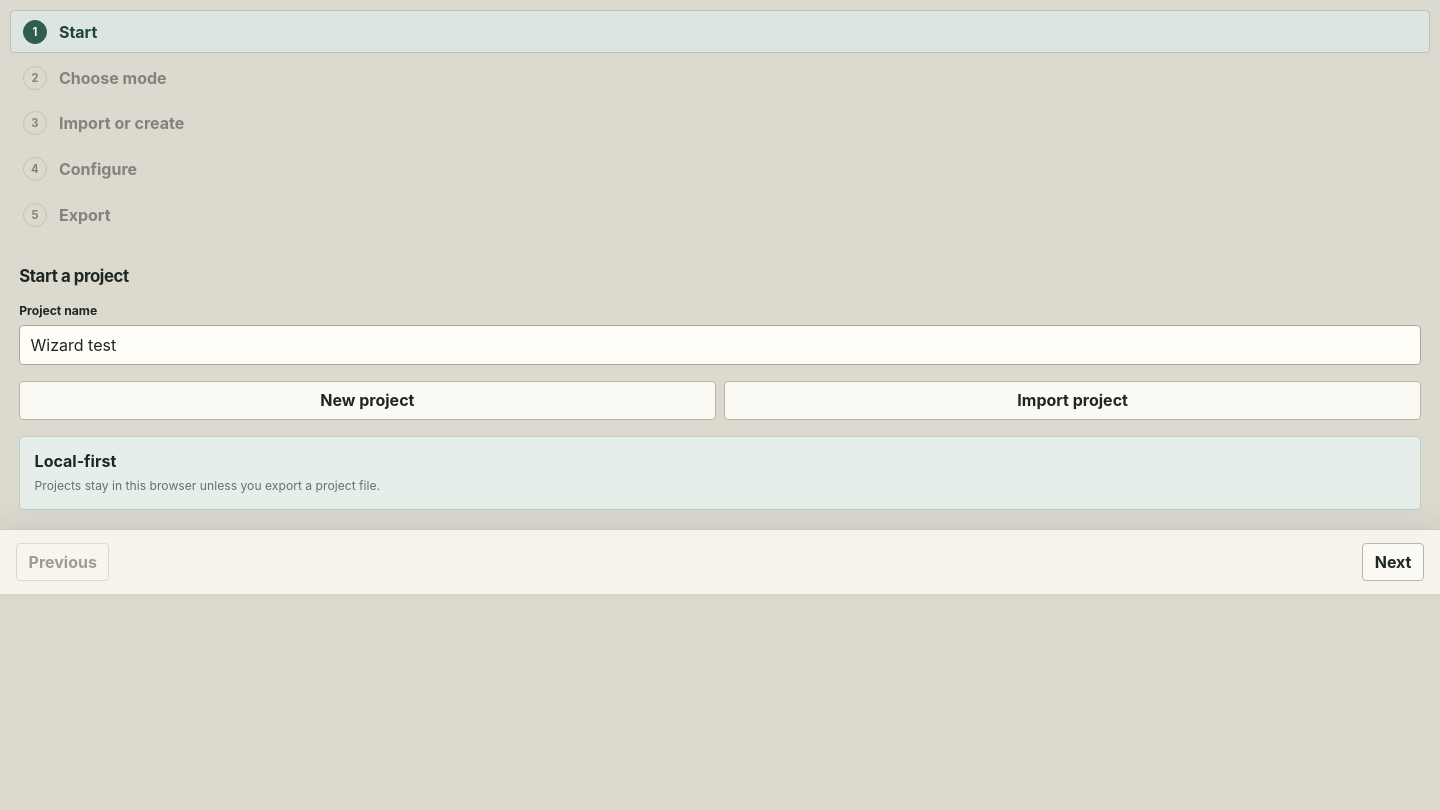
Scenario: wizard workflow › shows only the active step and unlocks completed navigation
The width and height of the screenshot is (1440, 810).
Check: the heading "Start a project" is shown, box [19, 266, 129, 286]
Check: the heading "Choose a fabrication mode" is not shown
Click the button "Next" at (1393, 562), box [1362, 543, 1424, 581]
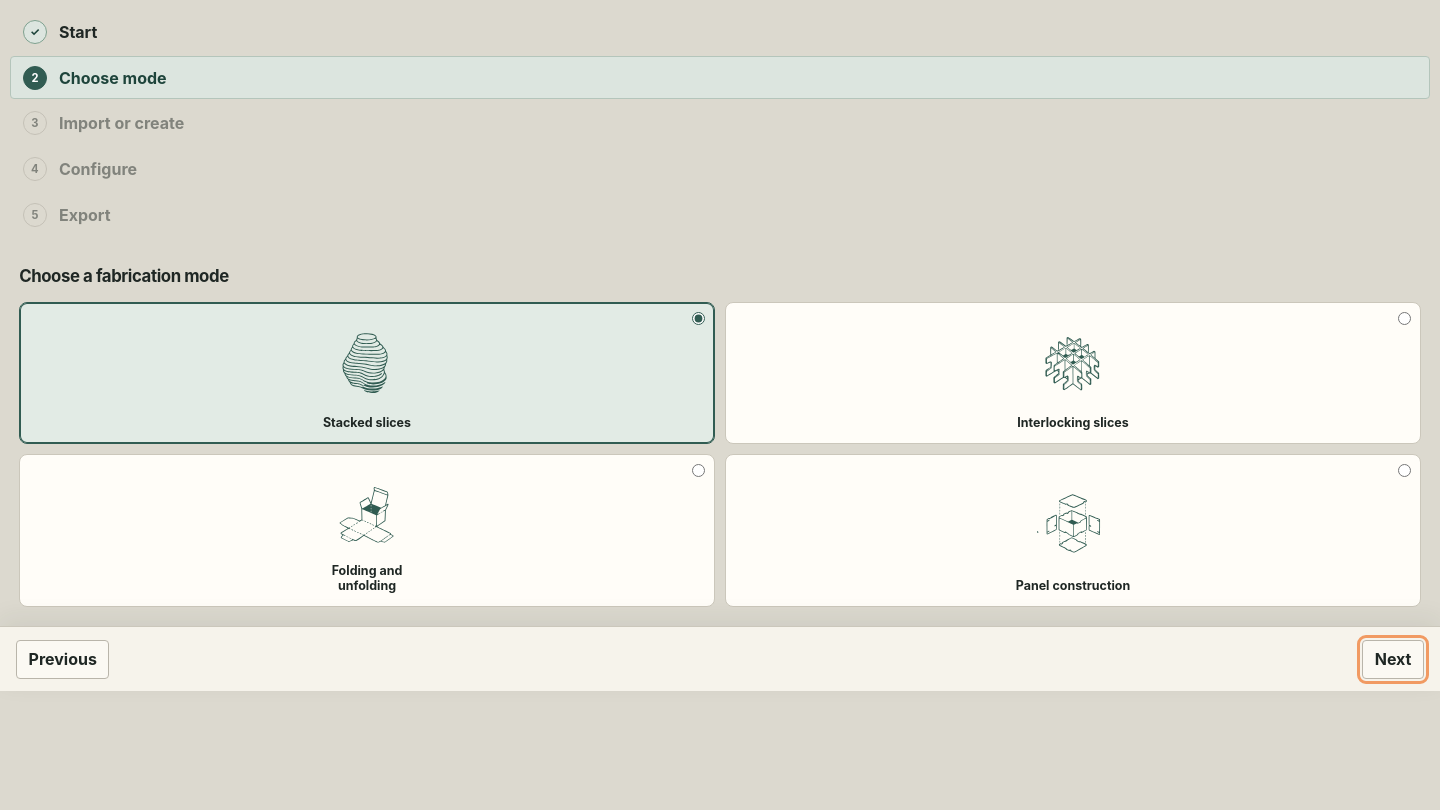
Check: the button "3 Import or create" is disabled, box [10, 102, 1430, 145]
Check: the heading "Choose a fabrication mode" is shown, box [19, 266, 229, 286]
Click the button "✓ Start" at (78, 32), box [10, 10, 1430, 53]
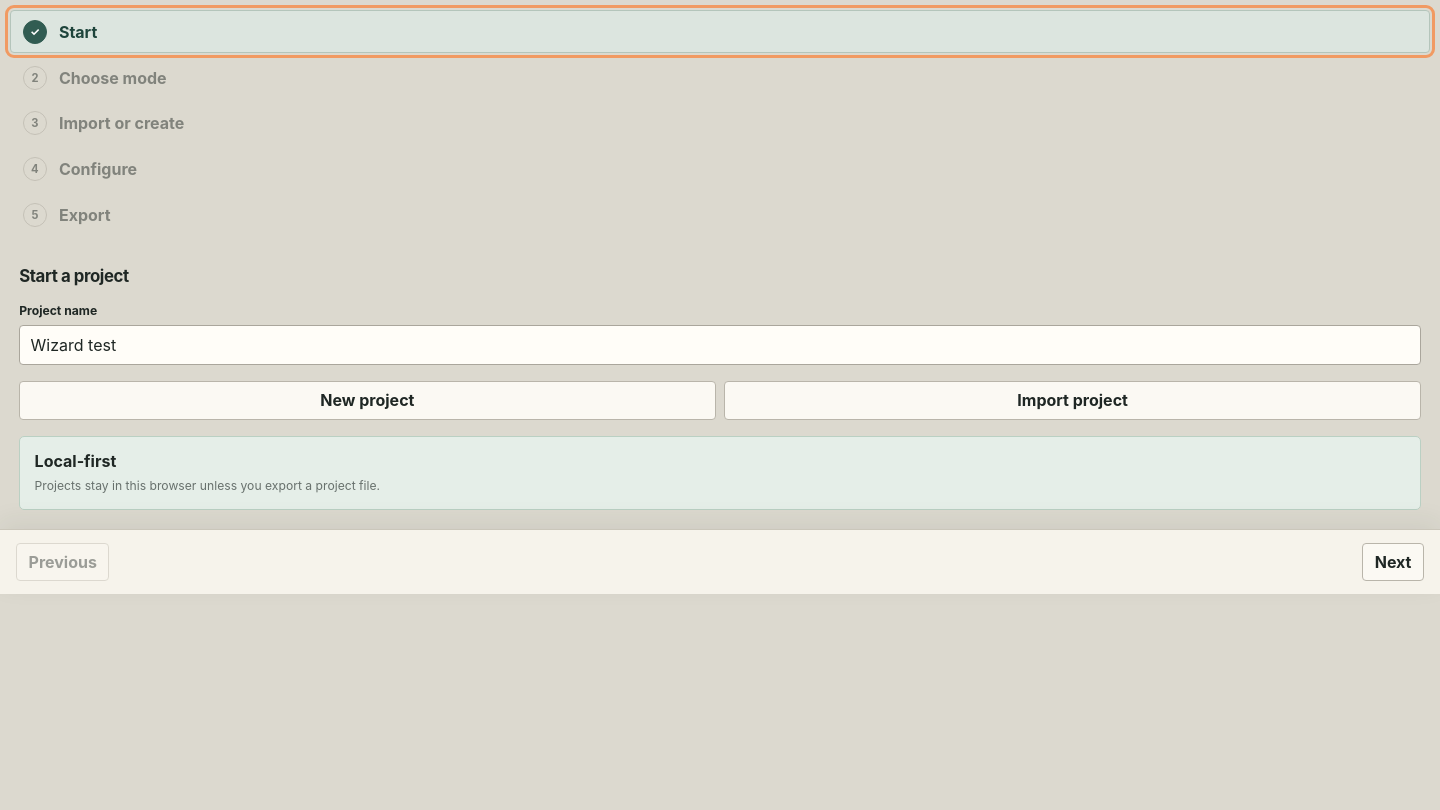
Check: the heading "Start a project" is shown, box [19, 266, 129, 286]
